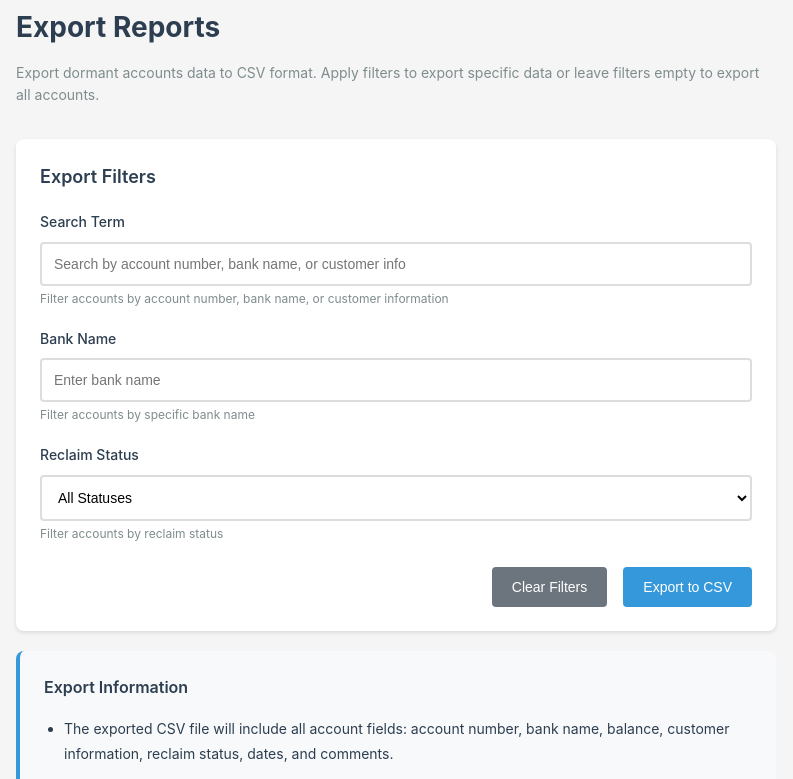
Reports Component › displays error message when export fails
// Click export button
Click the button "Export to CSV": (688, 586) [623,566,752,606]
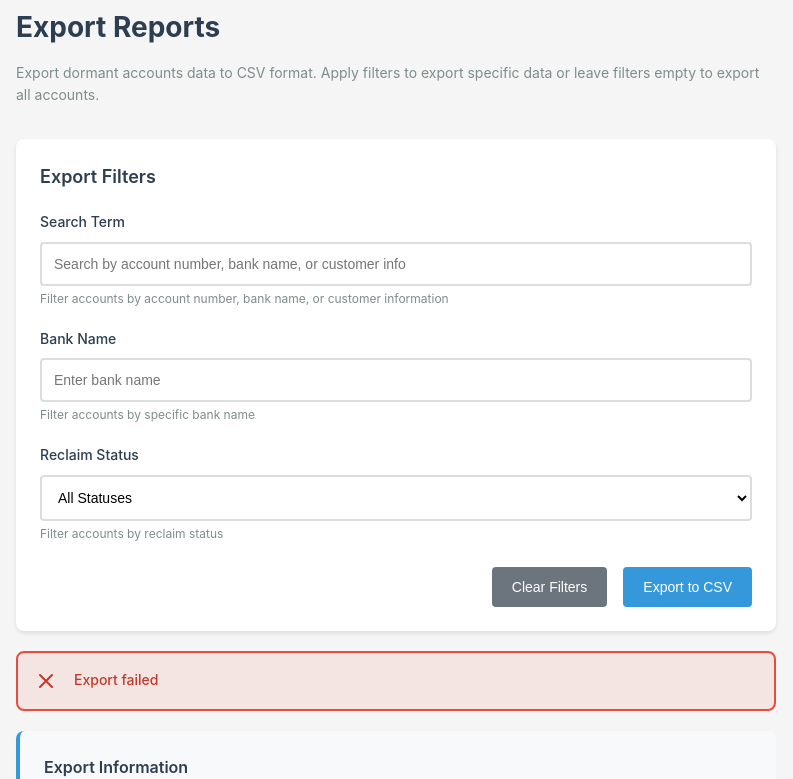
Check: the text "Export failed" is shown, box [74,669,158,692]
